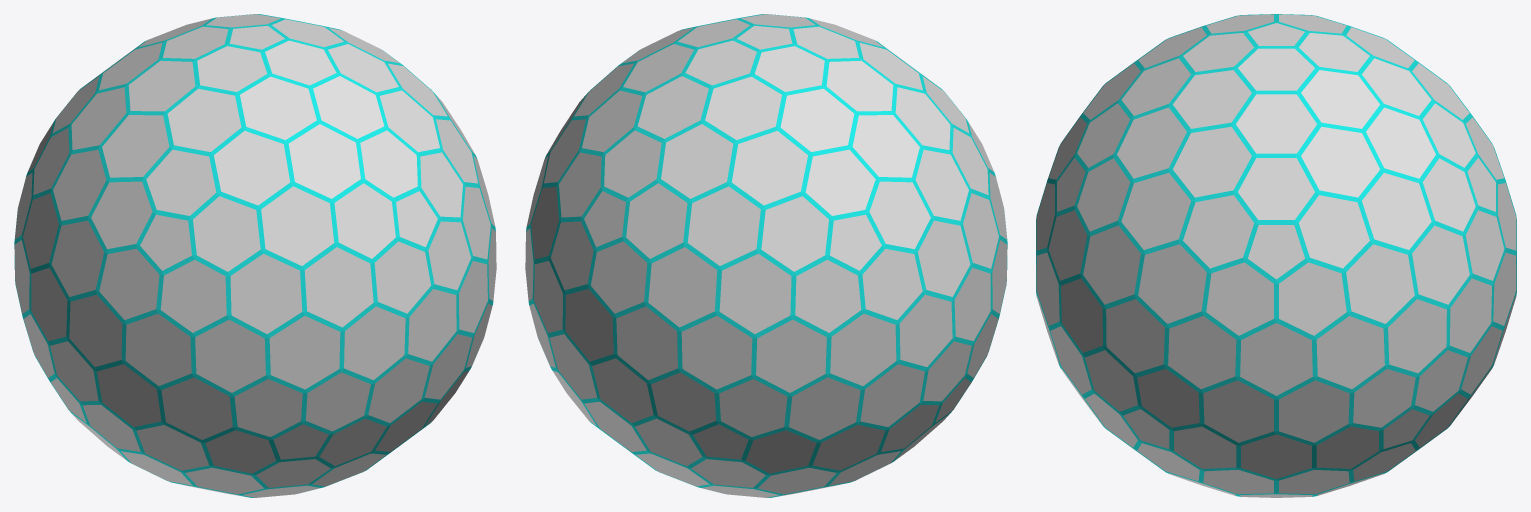
The model's file is barrier.fbx.
3 renders of one model, left to right at view 1: azimuth 30°, elevation 25°; view 2: azimuth 150°, elevation 25°; view 3: azimuth 270°, elevation 25°, orthographic.
Visible parts, largest first — view 1: Icosphere; view 2: Icosphere; view 3: Icosphere.
Boxes of the visible parts, bbox=[...] form: Icosphere: bbox=[14, 14, 496, 497]; Icosphere: bbox=[525, 14, 1007, 497]; Icosphere: bbox=[1036, 14, 1516, 497].
Size of the model in its own units: 1.94 by 1.95 by 1.93.
